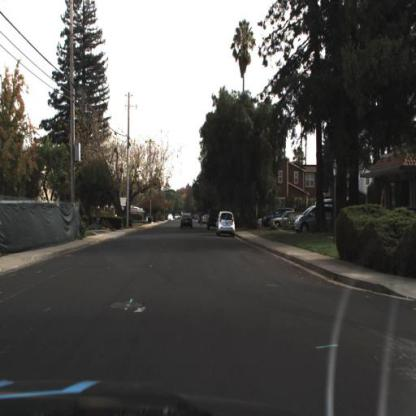car: (293, 201, 337, 237), (292, 207, 335, 232), (267, 210, 296, 234), (214, 211, 238, 238), (215, 211, 238, 238), (207, 208, 223, 234), (179, 212, 196, 233), (261, 209, 276, 230), (393, 212, 411, 229), (181, 214, 193, 230)
